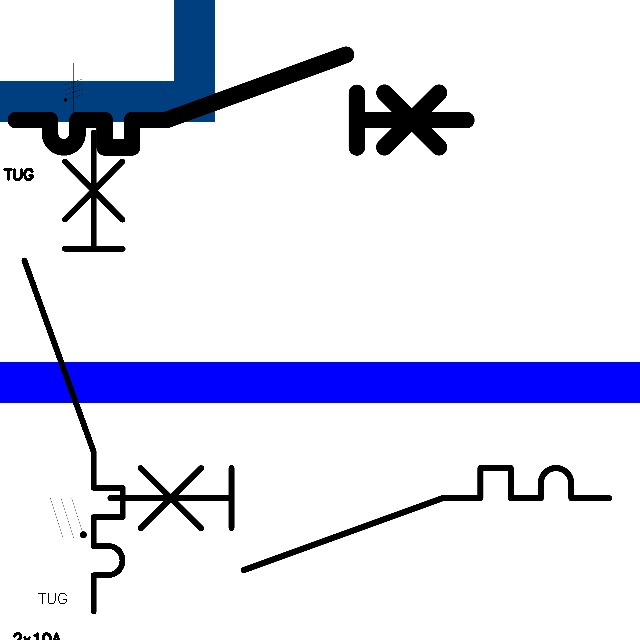interruptor_termomagnetico: (97, 455, 622, 583), (12, 120, 135, 624), (4, 43, 478, 159)
